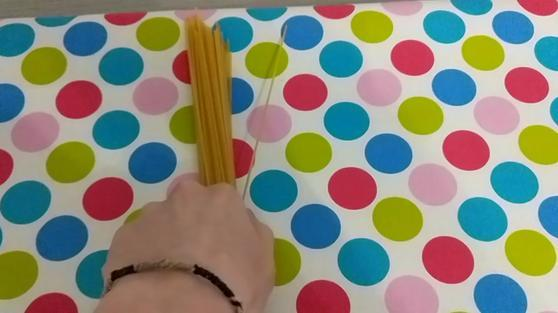spaghetti: (166, 8, 258, 185)
